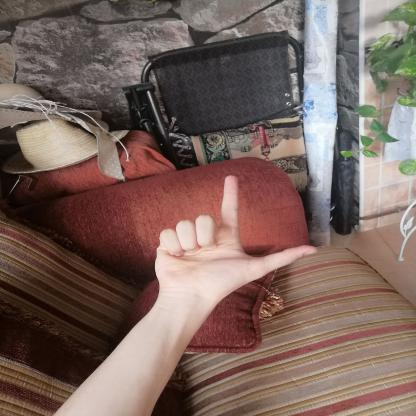LAAM: (145, 166, 324, 309)
